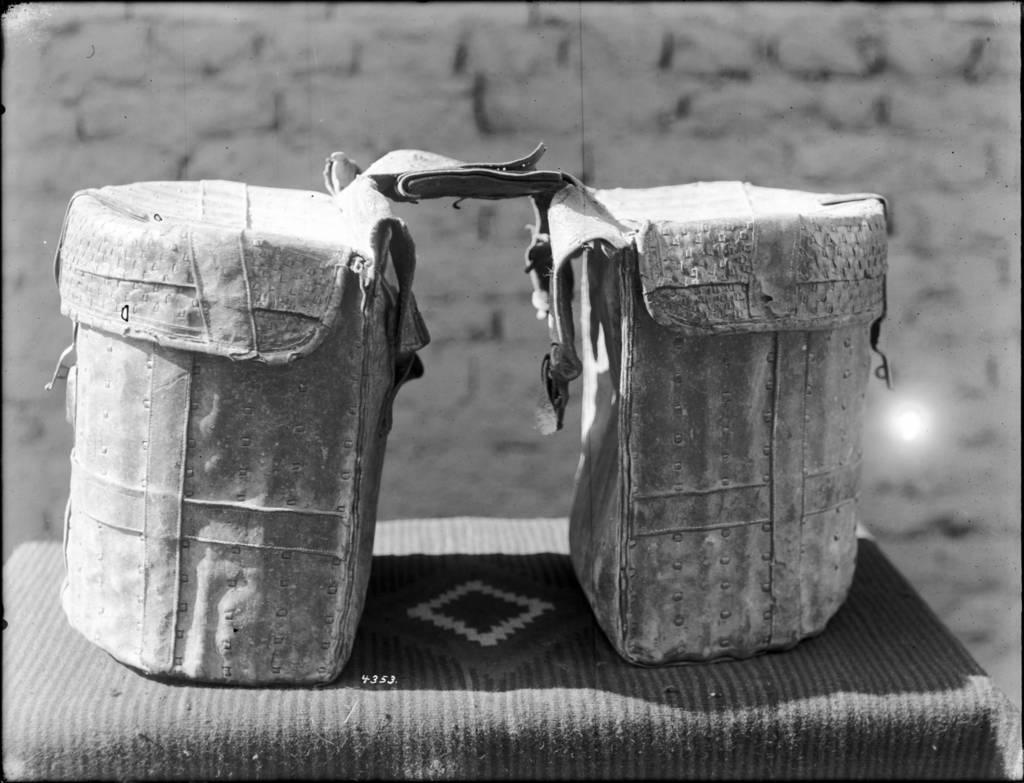Luggage-and-bags: (45, 146, 577, 688), (530, 179, 869, 646)
